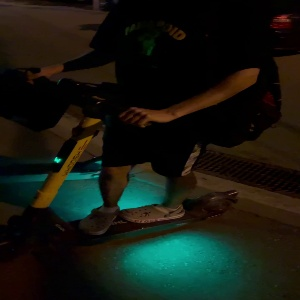human on a scooter: (1, 1, 285, 262)
